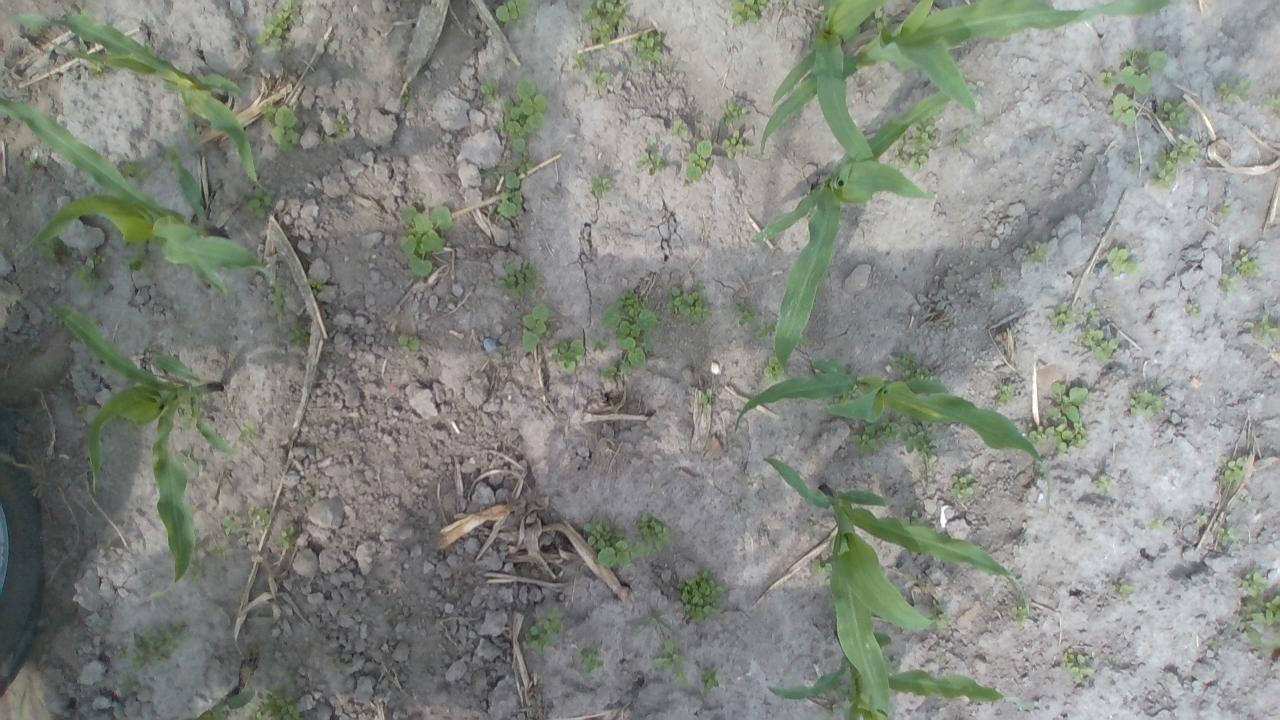Maize: (762, 452, 1028, 720), (0, 97, 286, 325), (756, 0, 1168, 143), (749, 91, 952, 374), (52, 299, 235, 584), (2, 9, 268, 192), (732, 358, 1055, 500), (766, 633, 1004, 720), (766, 0, 879, 166), (169, 682, 254, 720)
Weeds: (602, 289, 660, 371), (398, 200, 456, 278), (496, 78, 552, 151), (676, 568, 728, 626), (1231, 594, 1280, 654), (1047, 382, 1089, 452), (893, 112, 938, 172), (1151, 136, 1201, 188), (125, 624, 182, 669), (254, 3, 305, 52), (1118, 47, 1166, 96), (846, 414, 902, 456), (580, 0, 626, 50), (495, 260, 546, 304), (526, 608, 565, 658), (250, 684, 304, 720), (897, 410, 938, 455), (264, 102, 300, 153), (490, 172, 526, 223), (664, 284, 710, 322), (656, 640, 692, 687), (520, 303, 554, 352), (1079, 326, 1121, 364), (636, 512, 673, 554), (596, 538, 646, 569), (683, 137, 716, 183), (581, 516, 625, 550), (632, 28, 667, 66), (72, 250, 105, 288), (1128, 386, 1166, 419), (716, 98, 754, 129), (551, 338, 582, 376), (637, 137, 666, 177), (1062, 646, 1094, 682), (1217, 75, 1254, 106), (577, 642, 608, 676), (1156, 98, 1191, 128), (495, 0, 531, 29), (1104, 246, 1138, 276), (1045, 303, 1077, 334), (1110, 92, 1136, 127), (244, 188, 274, 218), (734, 0, 770, 25), (1236, 568, 1269, 595), (117, 158, 154, 182), (1233, 248, 1261, 278), (36, 234, 68, 260), (1218, 454, 1245, 483), (722, 135, 752, 161), (1023, 421, 1054, 446), (173, 446, 200, 474), (600, 359, 632, 382), (762, 355, 789, 382), (864, 7, 892, 33), (588, 62, 614, 90), (284, 319, 310, 346), (951, 470, 975, 499), (510, 149, 535, 175), (900, 368, 940, 384), (894, 350, 919, 375), (1256, 312, 1280, 338), (1218, 272, 1244, 296), (734, 300, 758, 326), (1024, 238, 1050, 262), (274, 524, 296, 552), (176, 401, 195, 432), (590, 173, 612, 198), (221, 512, 242, 538), (126, 250, 150, 272), (900, 509, 926, 528), (1098, 68, 1120, 90), (254, 508, 274, 532), (670, 116, 690, 139), (238, 420, 260, 440), (572, 50, 592, 72), (1092, 474, 1114, 494), (836, 384, 865, 399), (934, 600, 952, 624), (398, 334, 422, 352), (1217, 524, 1238, 544), (754, 319, 776, 338), (954, 126, 974, 146), (590, 334, 611, 353), (811, 558, 833, 576), (333, 114, 350, 136), (998, 383, 1016, 403), (701, 670, 720, 688), (188, 120, 205, 140), (1118, 578, 1136, 596), (480, 79, 497, 98), (86, 61, 105, 78), (306, 276, 322, 296), (1264, 92, 1280, 110), (1085, 303, 1101, 321), (22, 158, 39, 174), (700, 389, 716, 406), (1011, 604, 1027, 620), (1186, 302, 1202, 318), (1218, 199, 1232, 217), (116, 679, 138, 689), (1130, 152, 1140, 172), (398, 94, 414, 104), (796, 334, 808, 345), (992, 280, 1006, 289), (103, 542, 114, 552), (1198, 514, 1208, 522), (831, 703, 838, 713)
